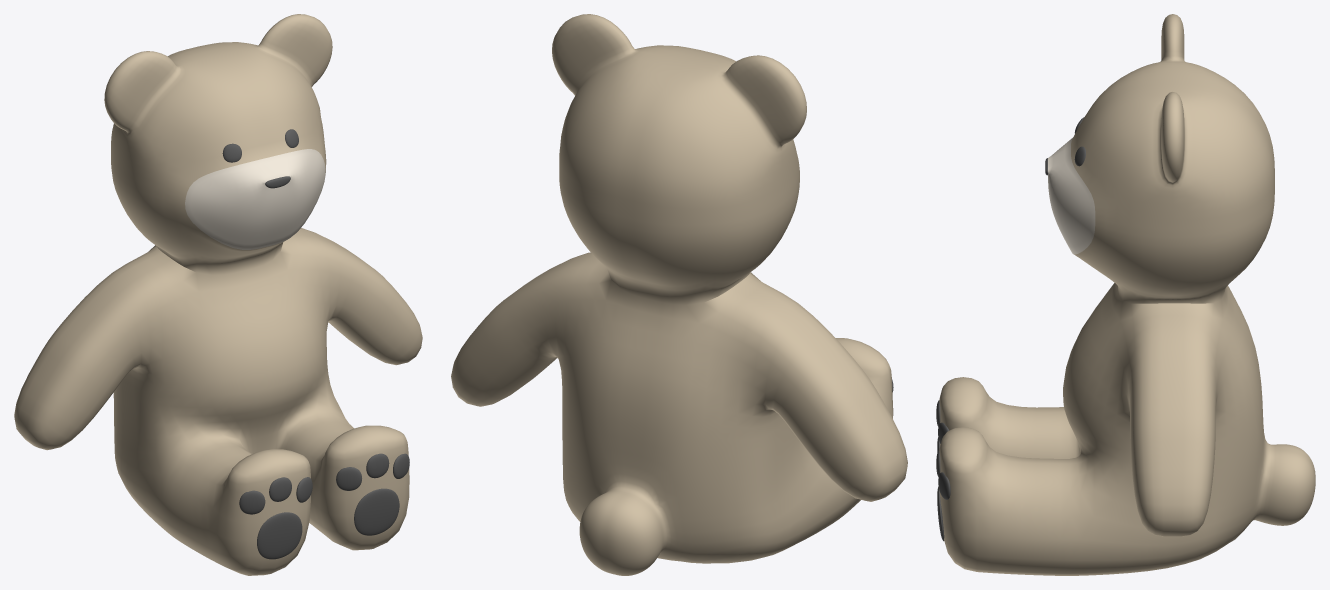
The model's file is Beer.glb.
The picture shows the model from 3 angles, left to right: view 1: azimuth 30°, elevation 25°; view 2: azimuth 150°, elevation 25°; view 3: azimuth 270°, elevation 25°; orthographic projection. The views are drawn at different scales.
Visible parts, largest first — view 1: obj1 bk; view 2: obj1 bk; view 3: obj1 bk.
Boxes of the visible parts, left/top/right/bottom form: obj1 bk: left=14, top=14, right=422, bottom=575; obj1 bk: left=451, top=14, right=907, bottom=575; obj1 bk: left=936, top=14, right=1315, bottom=575.
Size of the model in its own units: 324 by 363 by 257.
